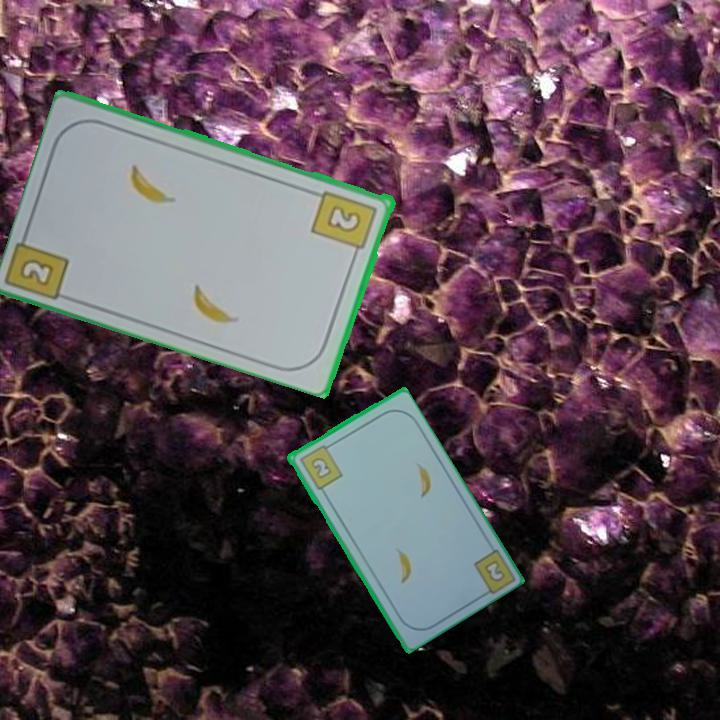2b: (309, 187, 381, 260), (296, 440, 345, 493), (16, 254, 58, 289), (480, 556, 508, 585)
